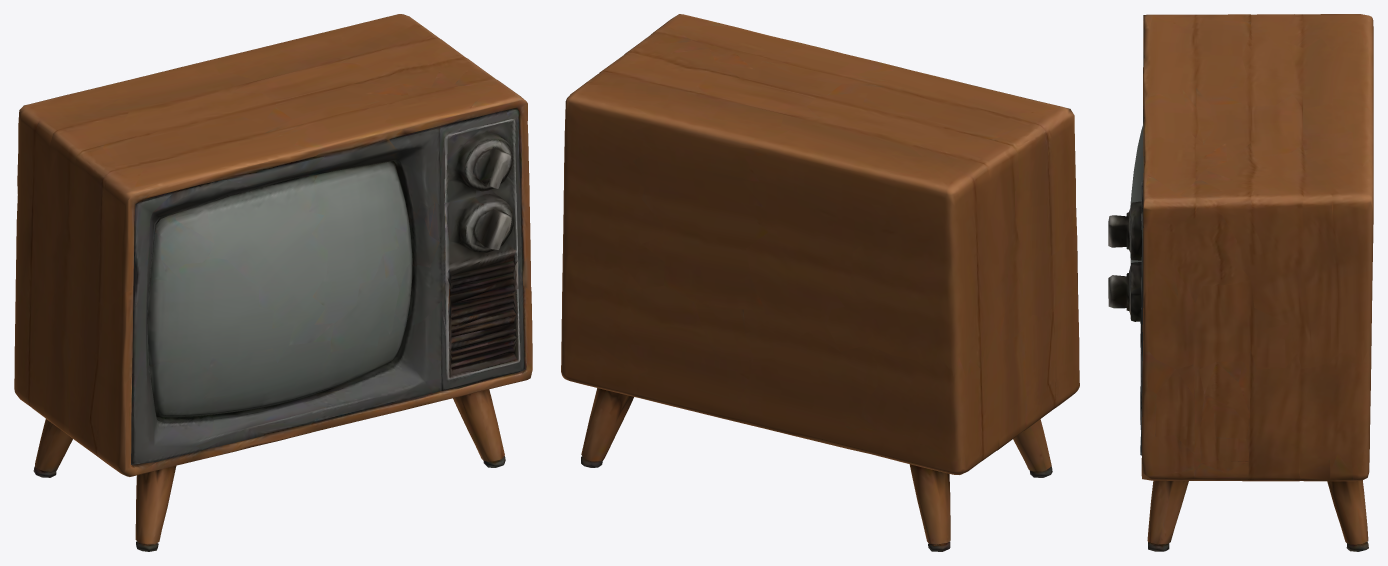
3 views of the same model, side by side, from view 1: azimuth 30°, elevation 25°; view 2: azimuth 150°, elevation 25°; view 3: azimuth 270°, elevation 25° (orthographic). The views are drawn at different scales.
Parts seen in each view (by area): view 1: tv-node; view 2: tv-node; view 3: tv-node.
Part boxes in pixels (<box>): tv-node: <box>14,14,532,551</box>; tv-node: <box>561,14,1079,551</box>; tv-node: <box>1108,14,1373,551</box>.
Bounding box in the file's own units: 1.17 × 1 × 0.6639.
Materials: 1 (1 with a texture image).
